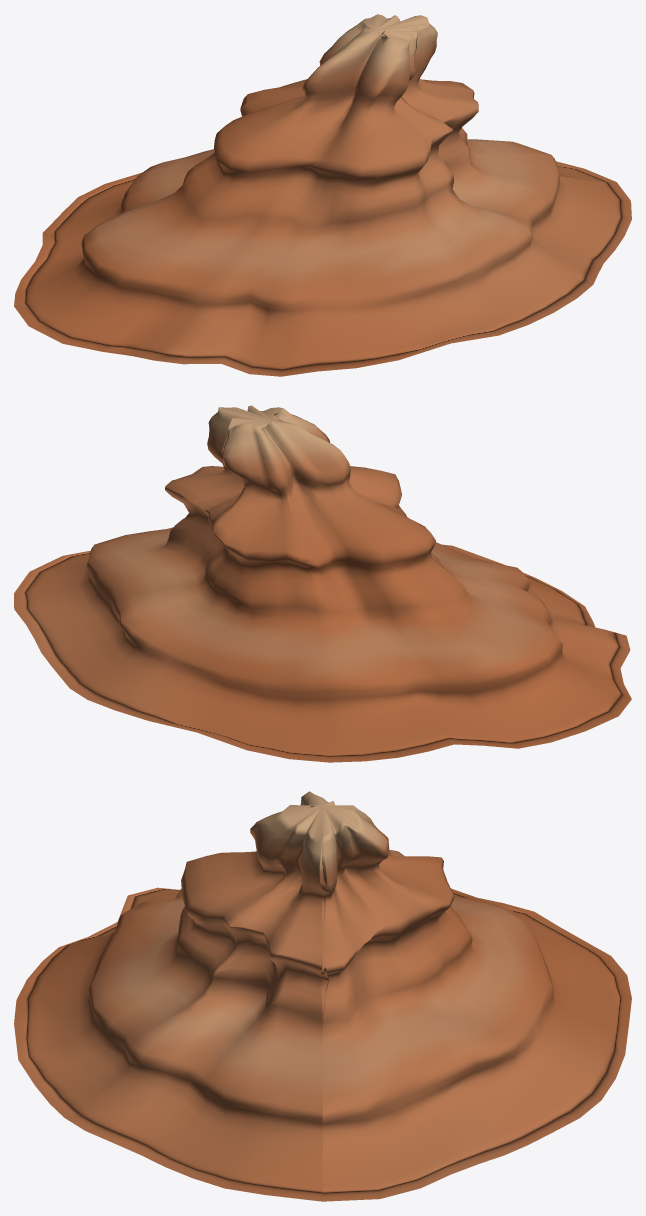
The model's file is talus.glb.
The picture shows the model from 3 angles, top to bottom: view 1: azimuth 30°, elevation 25°; view 2: azimuth 150°, elevation 25°; view 3: azimuth 270°, elevation 25°; orthographic projection. The views are drawn at different scales.
Parts seen in each view (by area): view 1: talus; view 2: talus; view 3: talus.
Boxes of the visible parts, left/top/right/bottom form: talus: left=14, top=14, right=631, bottom=376; talus: left=14, top=405, right=631, bottom=762; talus: left=14, top=791, right=631, bottom=1201.
Bounding box in the file's own units: 9.29 × 3.33 × 7.02.
